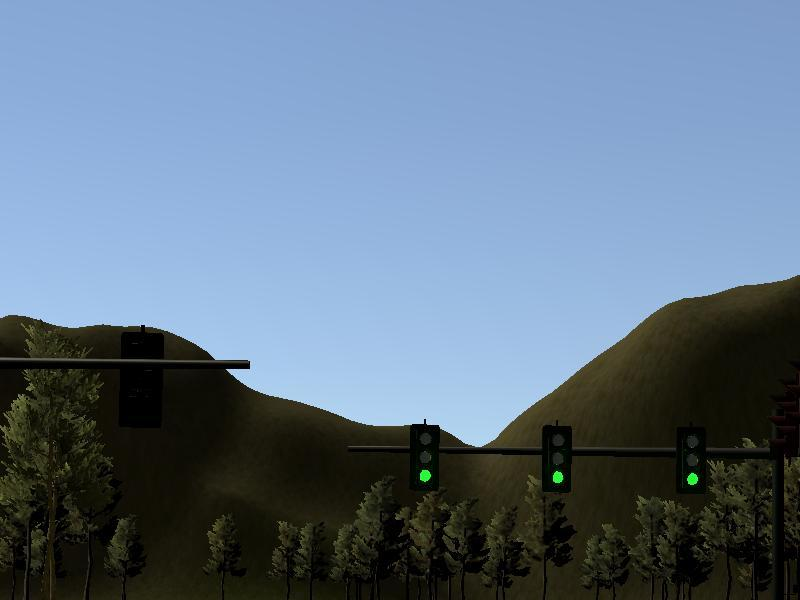Green: (677, 428, 707, 496), (540, 424, 570, 492), (408, 424, 438, 492)
